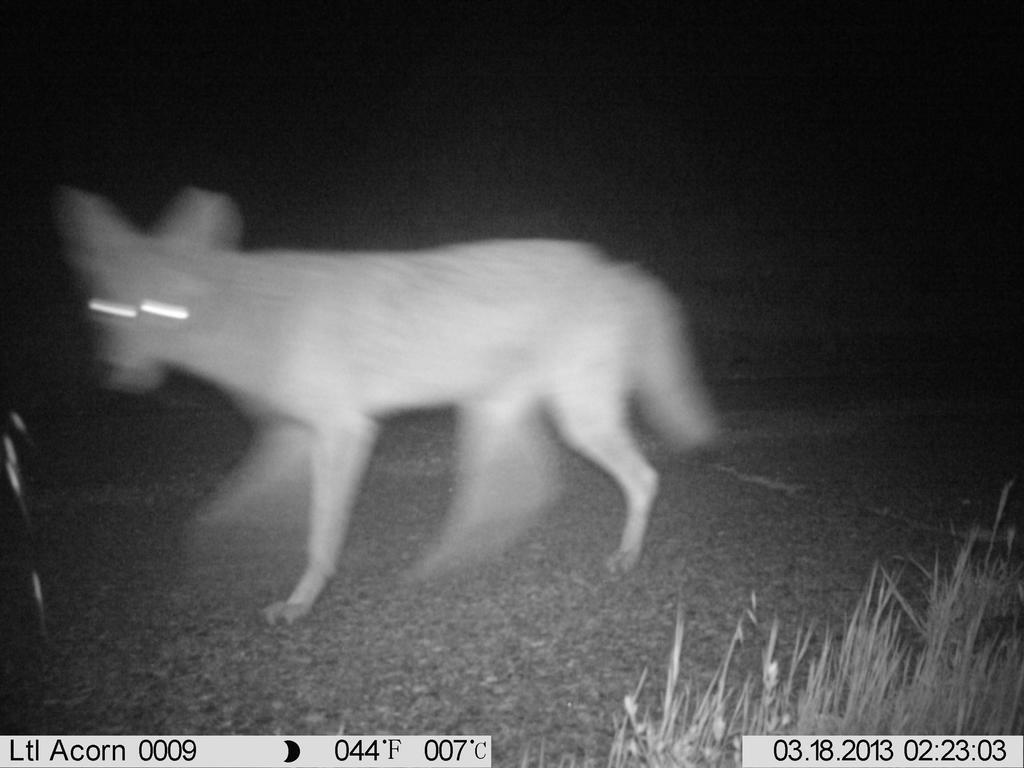coyote: (53, 167, 731, 637)
